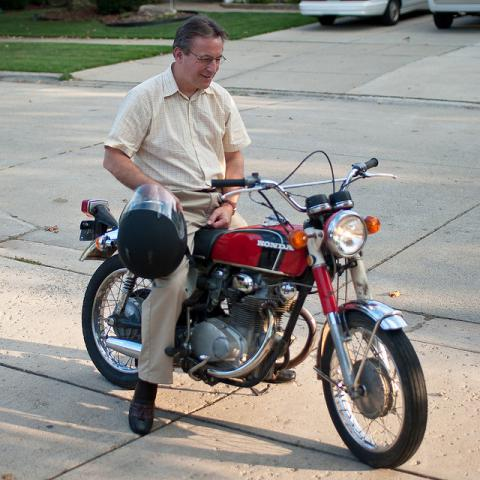car: (300, 0, 431, 28), (427, 0, 479, 31)
motorcycle: (71, 161, 434, 471)
